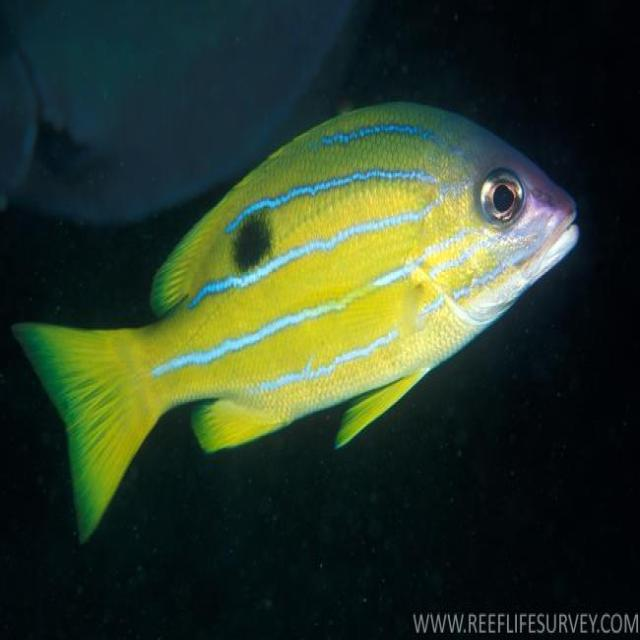ikan: (10, 98, 580, 546)
